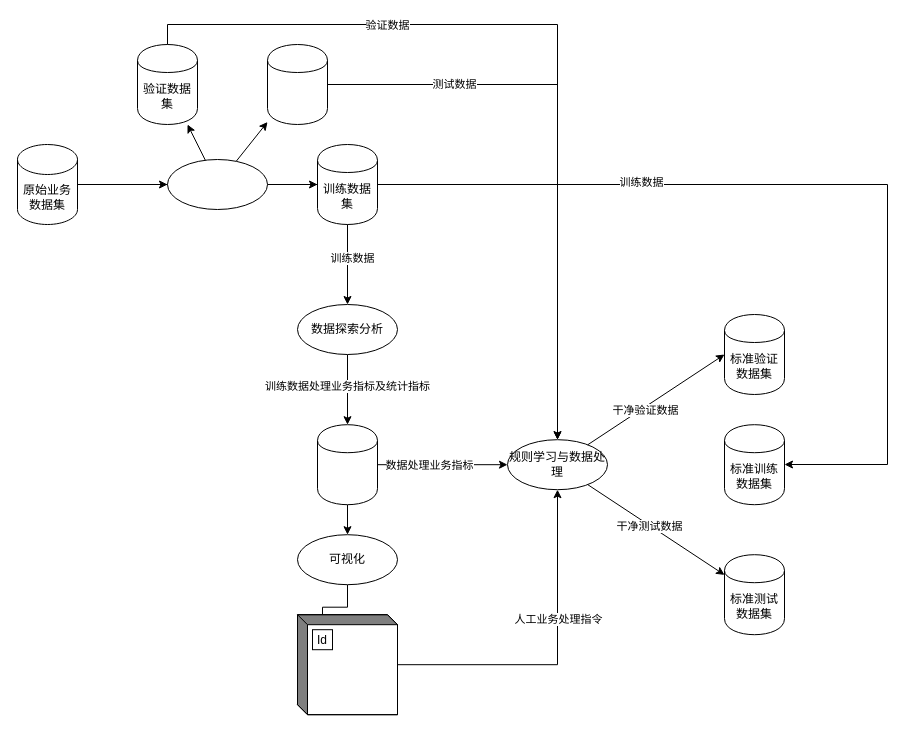
Some shapes in this 913 by 733 pixel diagram are drawn without their labels. The box of each missing label's shape, as (x1, y1, x2, y2) in pixels:
数据集划分: (166, 158, 268, 210)
测试数据集: (266, 44, 328, 124)
研究员: (296, 614, 398, 715)
训练数据指标集: (316, 424, 378, 505)
